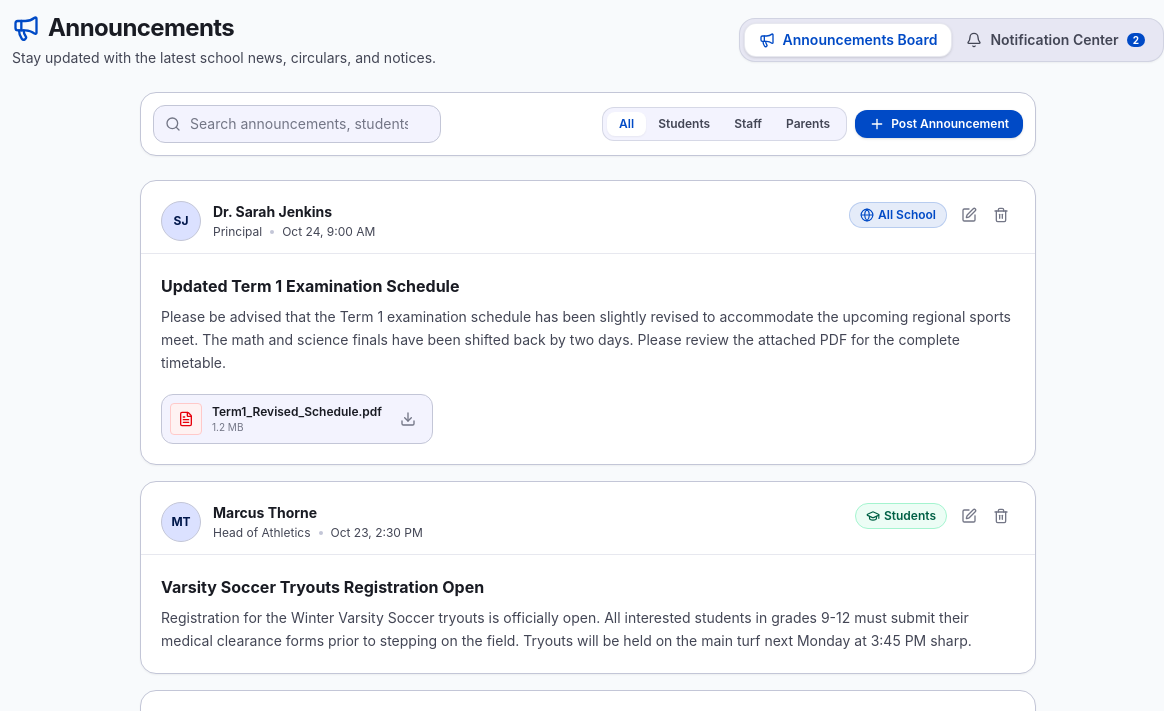
it: AnnouncementsPage (Announcements Board & Notifications Stitch Clone) › switches to Notification Center and displays notification items
Click the text "Notification Center": (1055, 40) [990,30,1119,50]
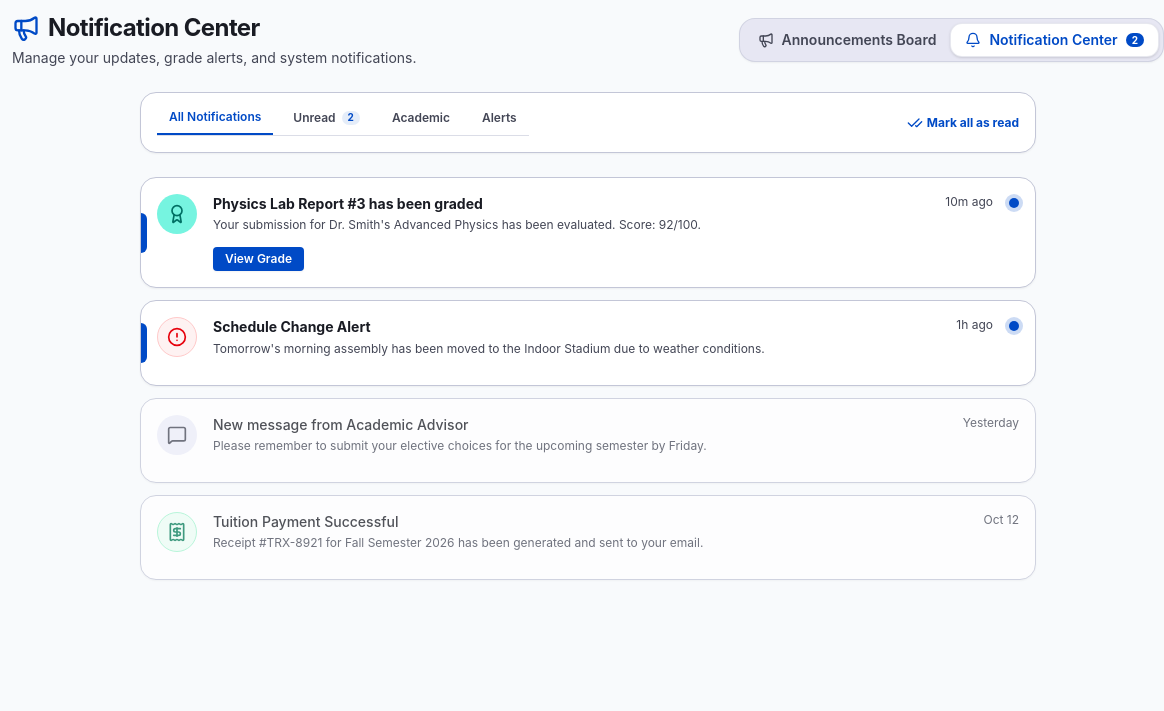
Check: the heading "Physics Lab Report #3 has been graded" is shown, box [213,194,483,213]
Check: the heading "Schedule Change Alert" is shown, box [213,317,371,337]
Check: the button "Mark all as read" is shown
# Mark all as read
Click the button "Mark all as read": (963, 122) [907,114,1019,130]
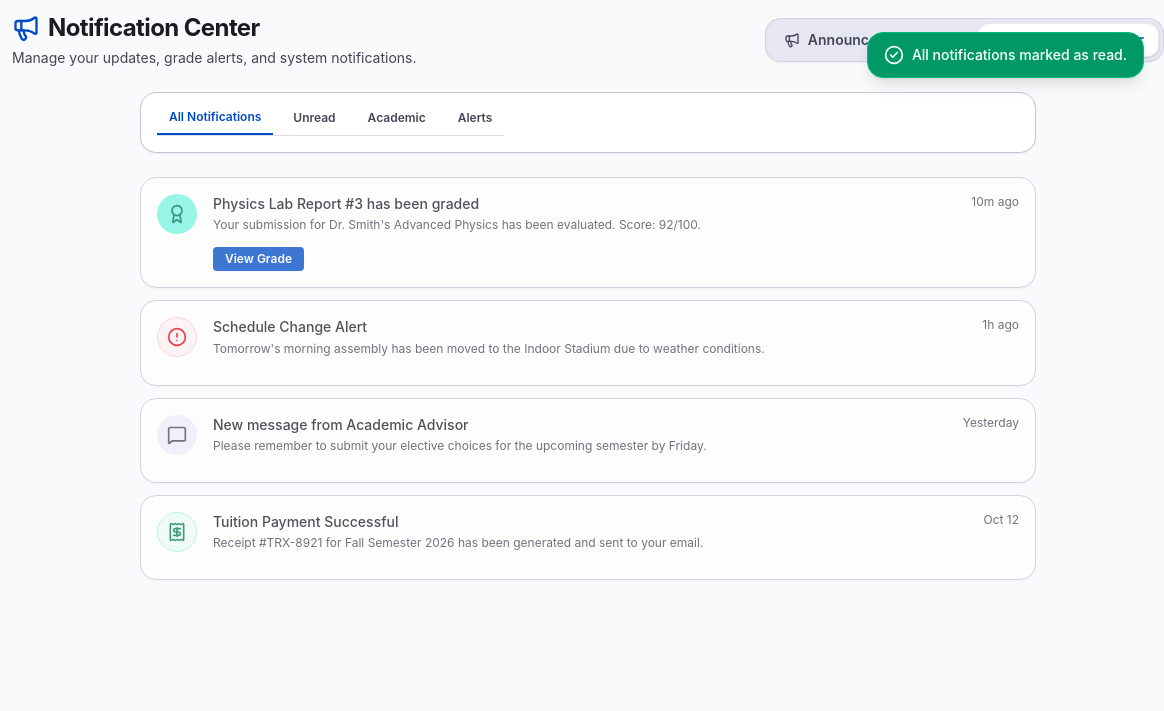
Check: the text "All notifications marked as read." is shown, box [912,45,1127,65]
